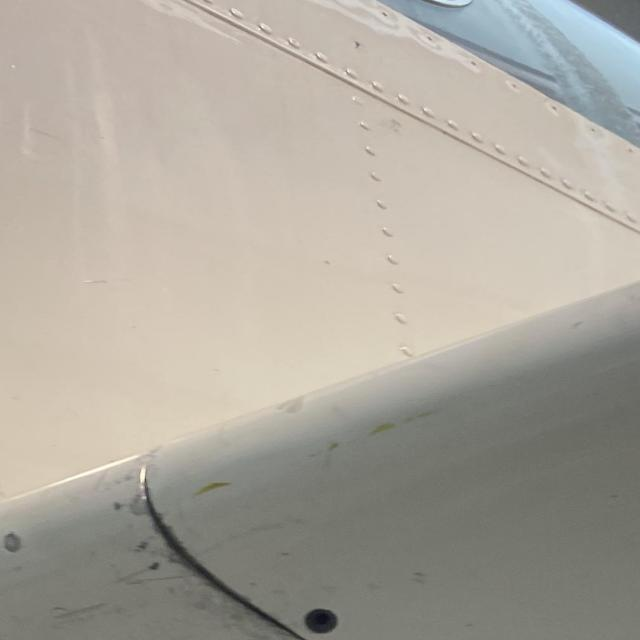Missing-head: (303, 607, 338, 633)
Paint-off: (1, 531, 21, 551)
